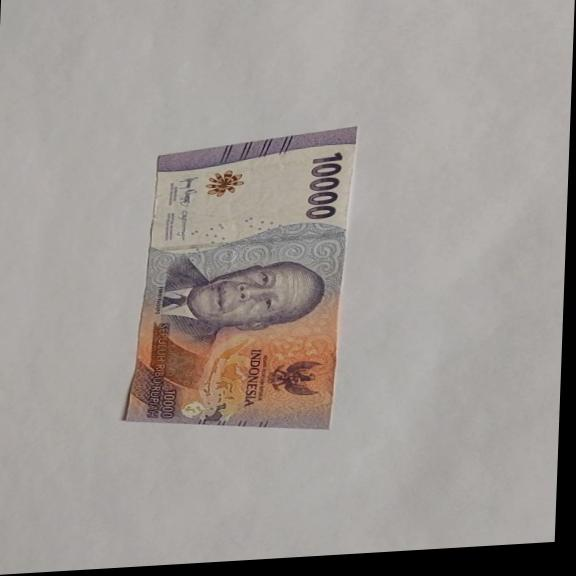Kertas: (121, 125, 359, 443), (303, 151, 345, 221)
